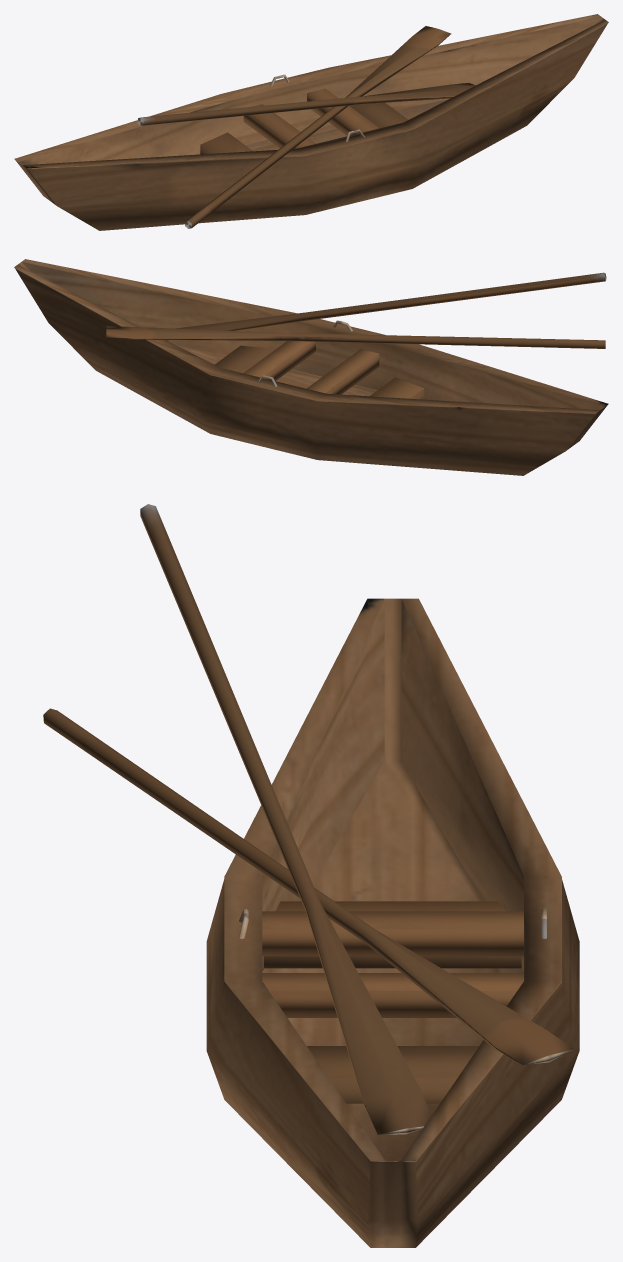
File: boat.fbx
The picture shows the model from 3 angles, top to bottom: view 1: azimuth 30°, elevation 25°; view 2: azimuth 150°, elevation 25°; view 3: azimuth 270°, elevation 25°; orthographic projection. The views are drawn at different scales.
Visible parts, largest first — view 1: Boat_Hull, Boat_Oar01, Boat_Oar02; view 2: Boat_Hull, Boat_Oar01, Boat_Oar02; view 3: Boat_Hull, Boat_Oar02, Boat_Oar01.
Part boxes in pixels (x1,y1,x2,y2): Boat_Hull: [14, 14, 608, 230]; Boat_Oar01: [185, 26, 451, 228]; Boat_Oar02: [137, 83, 475, 125]; Boat_Hull: [14, 259, 608, 475]; Boat_Oar01: [106, 326, 605, 348]; Boat_Oar02: [166, 272, 606, 340]; Boat_Hull: [206, 598, 579, 1247]; Boat_Oar02: [140, 504, 431, 1134]; Boat_Oar01: [43, 708, 574, 1064].
Size of the model in its own units: 6.55 by 1.69 by 2.61.
1 material, 1 textured.
